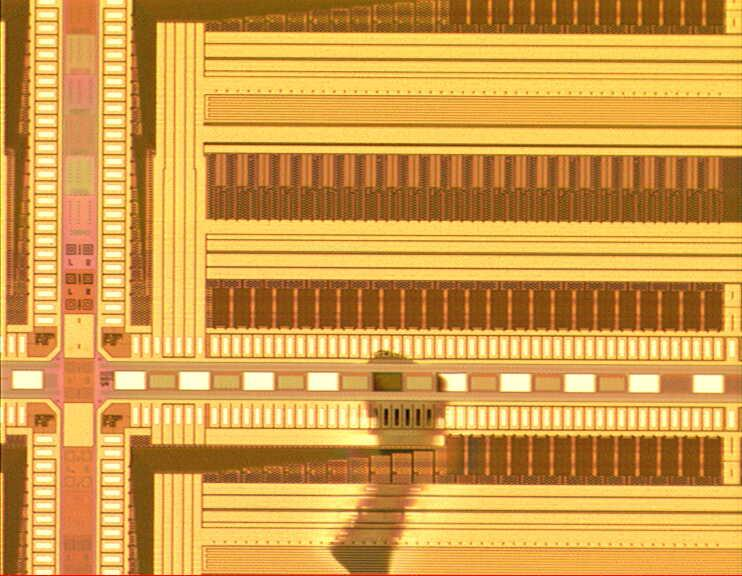BLOCK ETCH: (318, 339, 460, 575)
